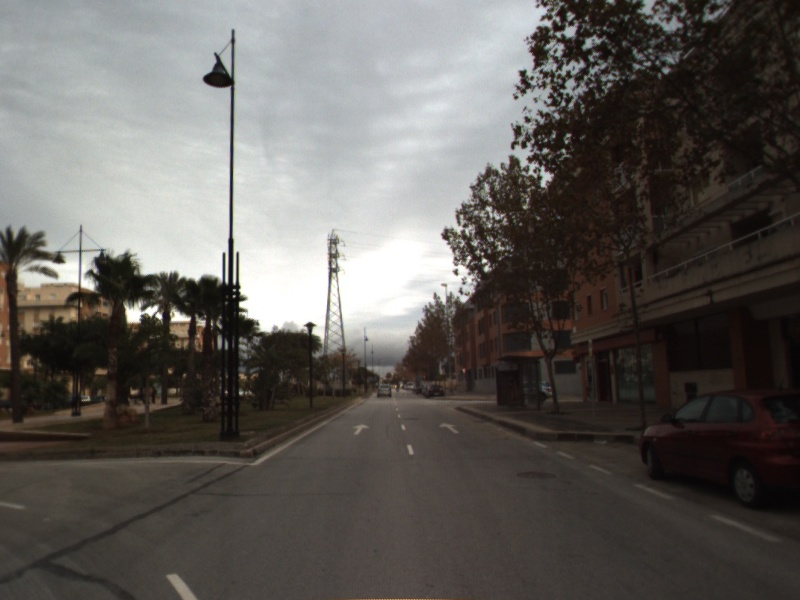STRAIGHT: (437, 420, 462, 435), (351, 422, 372, 437)
